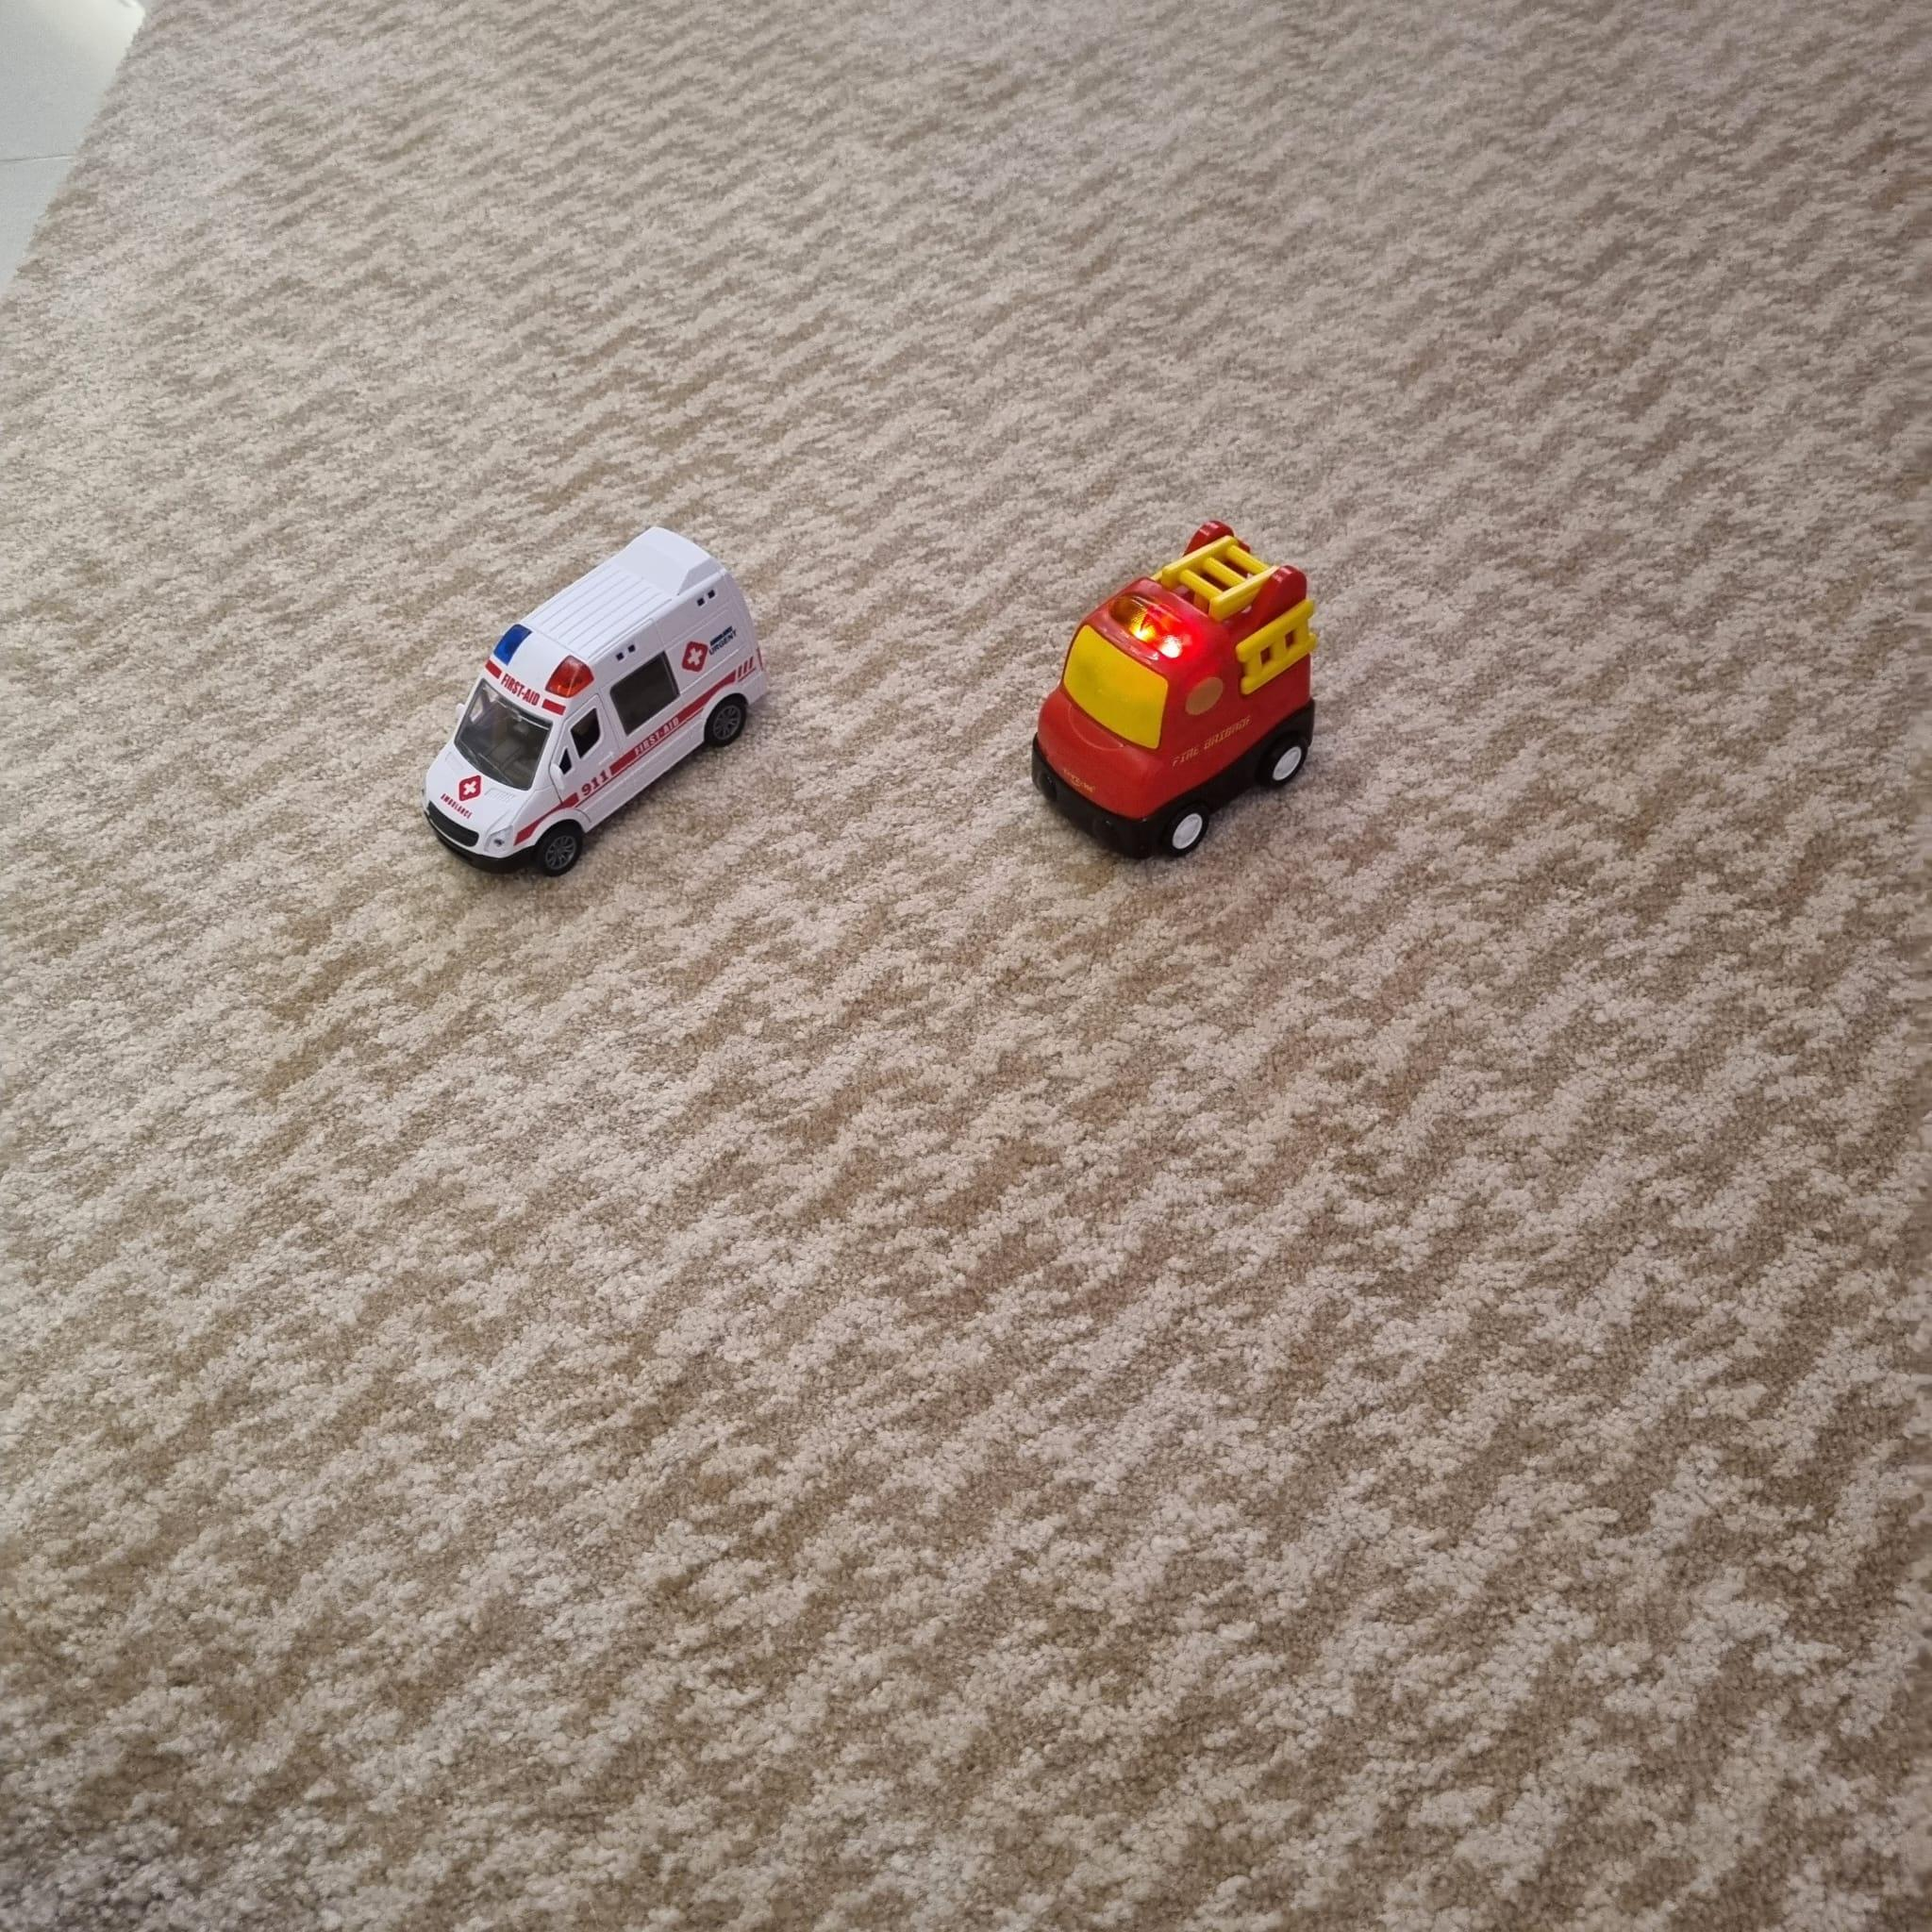ambulance_off: (419, 538, 763, 881)
firetruck_on: (1024, 520, 1320, 870)
